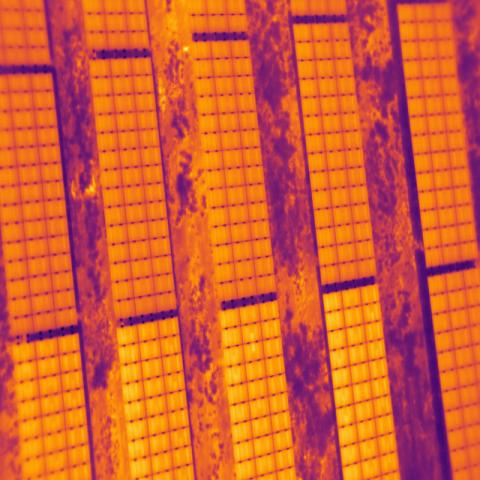fault: (241, 322, 265, 364)
